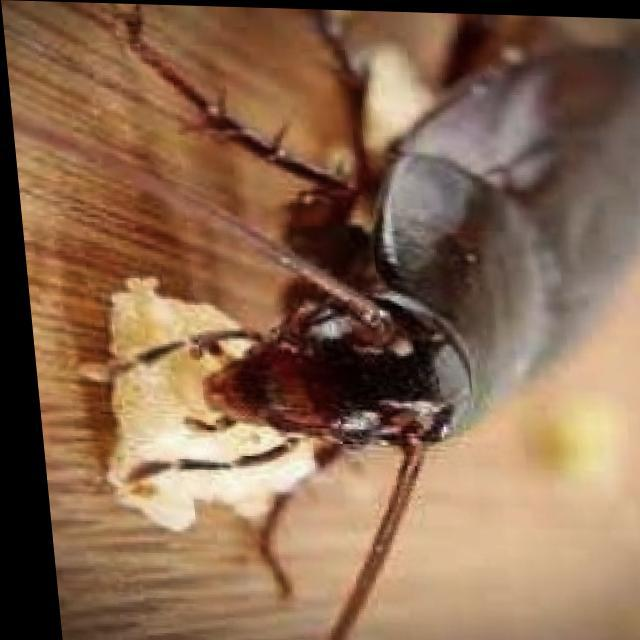cockroach: (113, 21, 639, 572)
